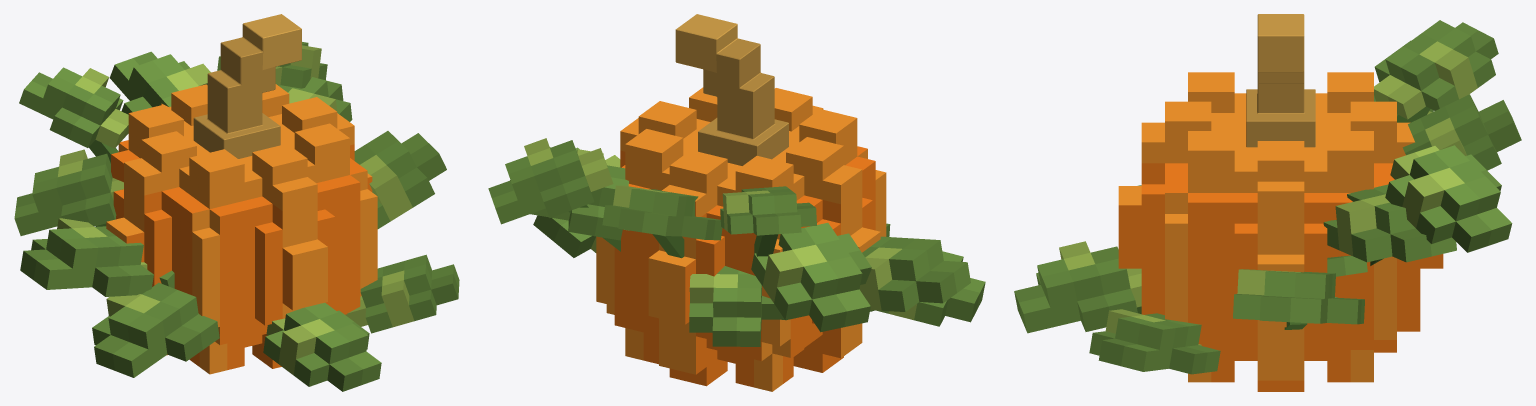
Rendered from SM_VMF_Crop_Pumpkin_Mature.fbx.
The picture shows the model from 3 angles, left to right: view 1: azimuth 30°, elevation 25°; view 2: azimuth 150°, elevation 25°; view 3: azimuth 270°, elevation 25°; orthographic projection. The views are drawn at different scales.
Parts seen in each view (by area): view 1: SM_VMF_Crop_Pumpkin_Mature_Leaves, SM_VMF_Crop_Pumpkin_Mature_FruitFruit, SM_VMF_Crop_Pumpkin_Mature_FruitStem; view 2: SM_VMF_Crop_Pumpkin_Mature_FruitFruit, SM_VMF_Crop_Pumpkin_Mature_Leaves, SM_VMF_Crop_Pumpkin_Mature_FruitStem, SM_VMF_Crop_Pumpkin_Mature_Vines; view 3: SM_VMF_Crop_Pumpkin_Mature_FruitFruit, SM_VMF_Crop_Pumpkin_Mature_Leaves, SM_VMF_Crop_Pumpkin_Mature_FruitStem, SM_VMF_Crop_Pumpkin_Mature_Vines.
Boxes of the visible parts, left/top/right/bottom form: SM_VMF_Crop_Pumpkin_Mature_Leaves: left=14, top=42, right=459, bottom=391; SM_VMF_Crop_Pumpkin_Mature_FruitFruit: left=106, top=84, right=377, bottom=374; SM_VMF_Crop_Pumpkin_Mature_FruitStem: left=193, top=14, right=301, bottom=158; SM_VMF_Crop_Pumpkin_Mature_FruitFruit: left=596, top=87, right=886, bottom=391; SM_VMF_Crop_Pumpkin_Mature_Leaves: left=488, top=138, right=985, bottom=346; SM_VMF_Crop_Pumpkin_Mature_FruitStem: left=675, top=14, right=788, bottom=165; SM_VMF_Crop_Pumpkin_Mature_Vines: left=568, top=205, right=874, bottom=311; SM_VMF_Crop_Pumpkin_Mature_FruitFruit: left=1118, top=72, right=1443, bottom=391; SM_VMF_Crop_Pumpkin_Mature_Leaves: left=1014, top=20, right=1521, bottom=374; SM_VMF_Crop_Pumpkin_Mature_FruitStem: left=1246, top=14, right=1315, bottom=147; SM_VMF_Crop_Pumpkin_Mature_Vines: left=1137, top=106, right=1430, bottom=329.
Size of the model in its own units: 93.46 by 64 by 87.5.
Materials: 1 (1 with a texture image).
